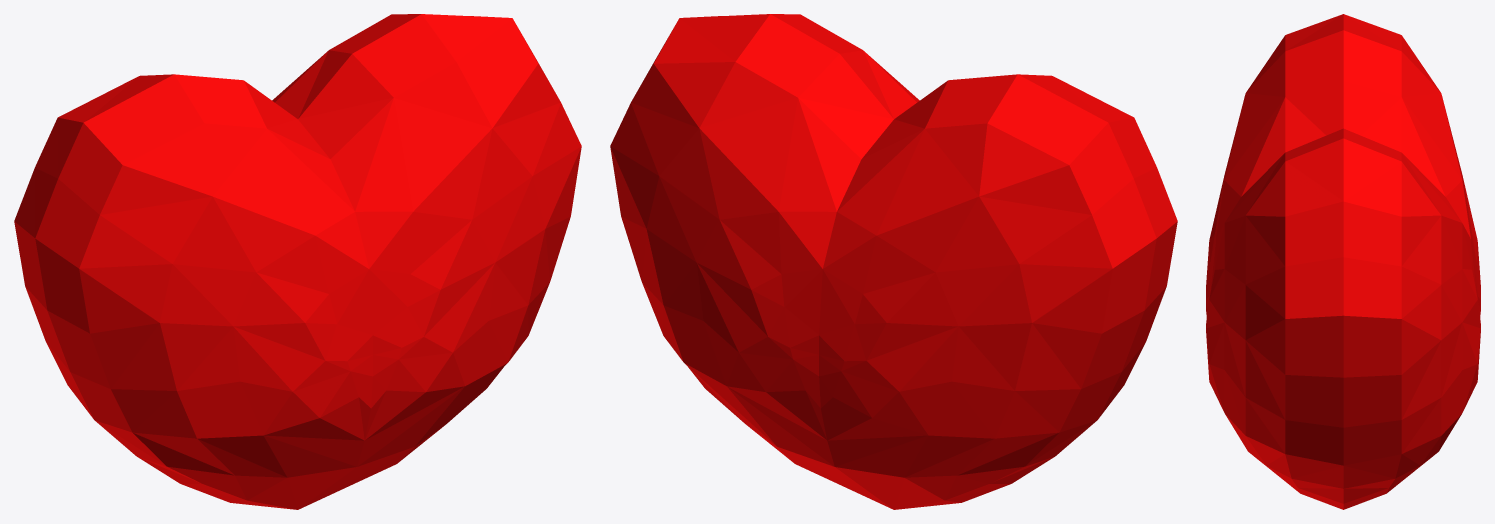
File: heart@heart.obj
The picture shows the model from 3 angles, left to right: view 1: azimuth 30°, elevation 25°; view 2: azimuth 150°, elevation 25°; view 3: azimuth 270°, elevation 25°; orthographic projection. The views are drawn at different scales.
Visible parts, largest first — view 1: Cube_Cube.001; view 2: Cube_Cube.001; view 3: Cube_Cube.001.
Boxes of the visible parts, <box> form: Cube_Cube.001: <box>14,14,581,509</box>; Cube_Cube.001: <box>610,14,1177,509</box>; Cube_Cube.001: <box>1206,14,1480,509</box>.
Bounding box in the file's own units: 2.37 × 2 × 1.2.
1 material, 1 textured.
